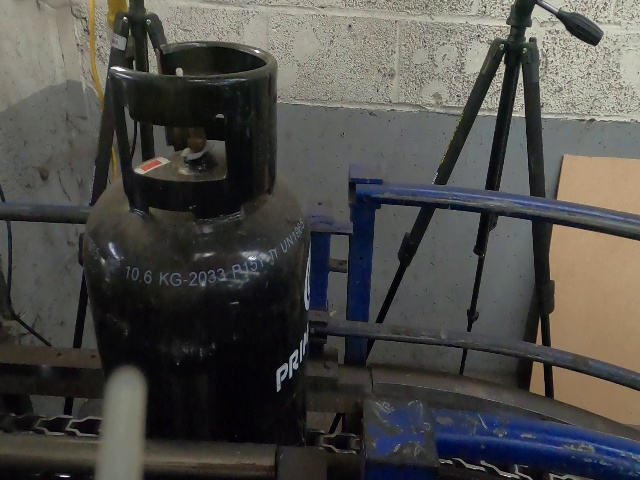gas_bottle: (0, 0, 636, 476)
